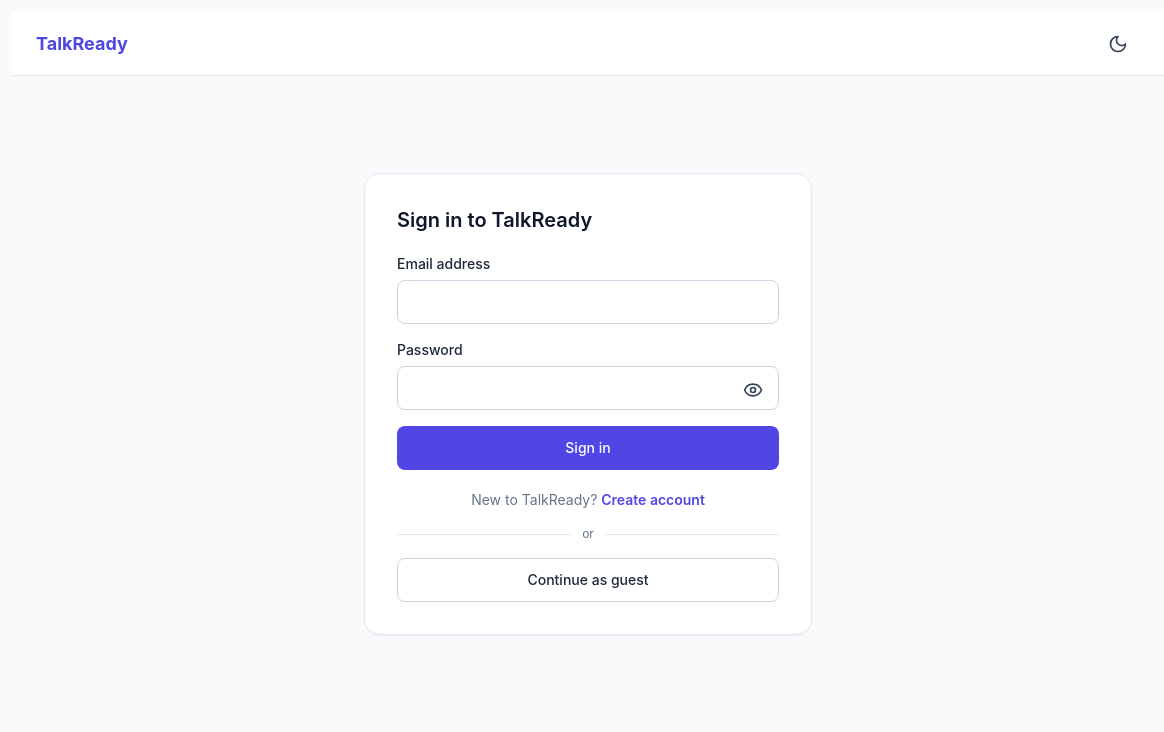
Test: authentication pages › submits valid login credentials and navigates to the landing page
The width and height of the screenshot is (1164, 732).
Type "sam@example.com" into the field labelled "Email address" at (588, 302), box [397,280,779,324]
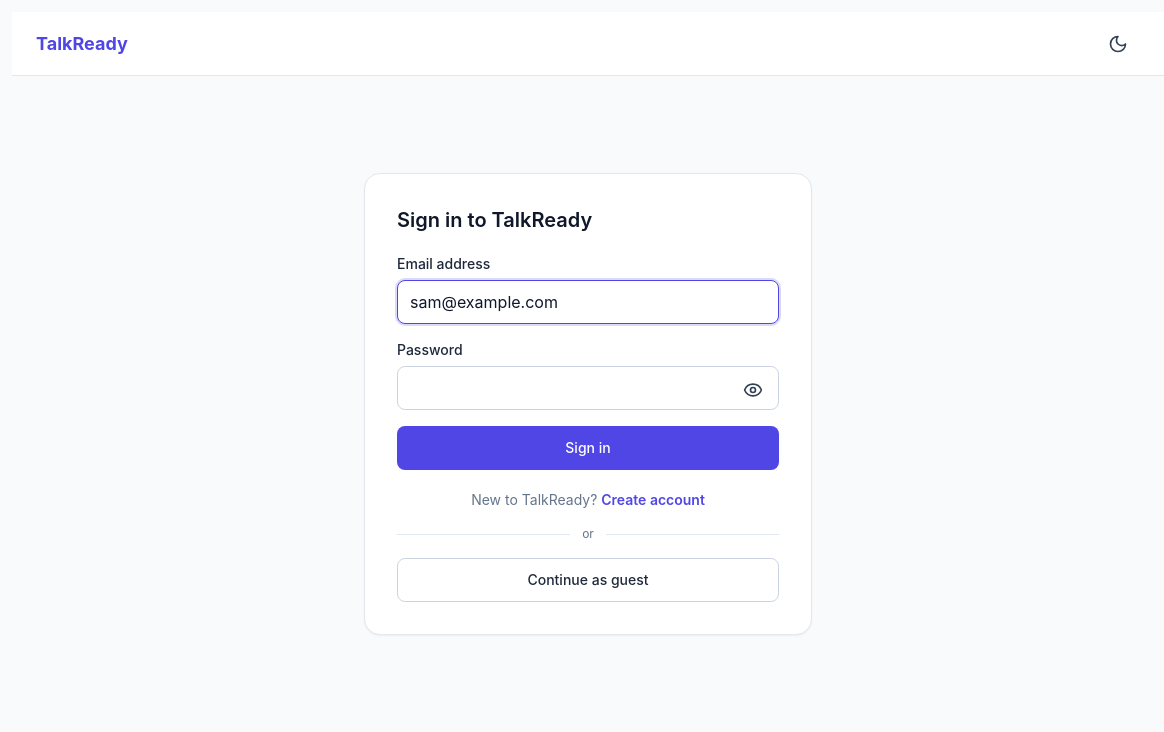
Type "Secure123" into the password field labelled "Password" at (588, 388), box [397,366,779,410]
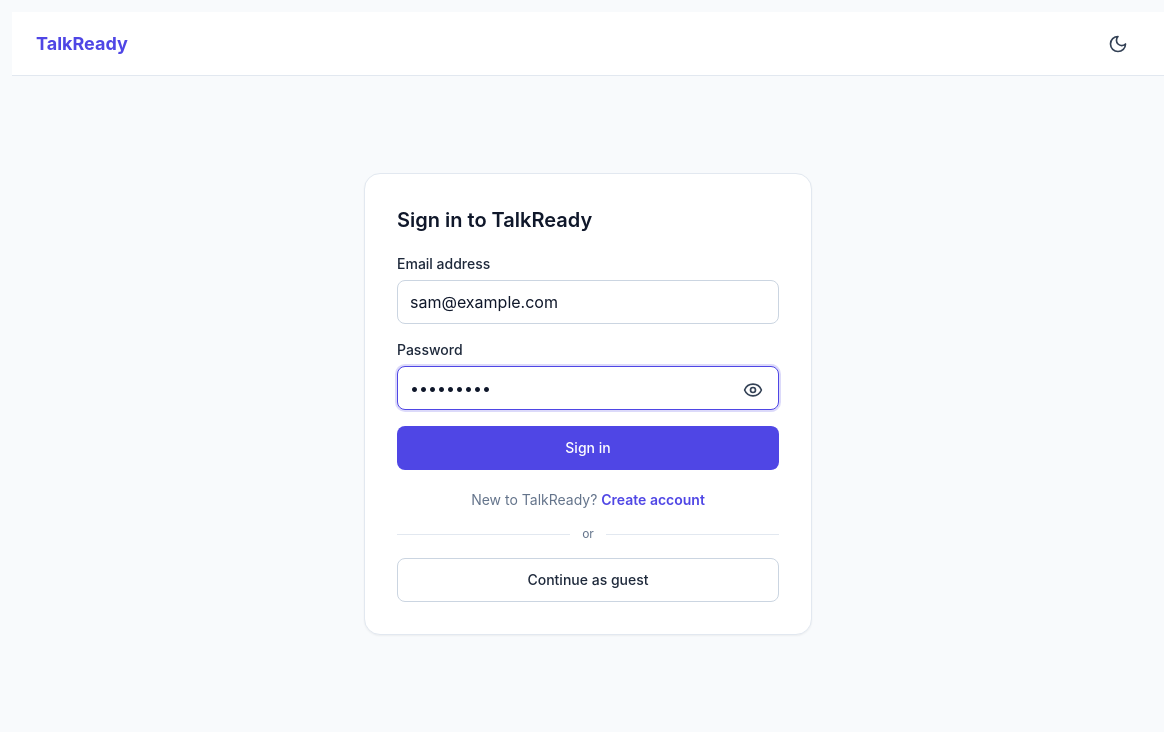
Click the button "Sign in" at (588, 448), box [397,426,779,470]
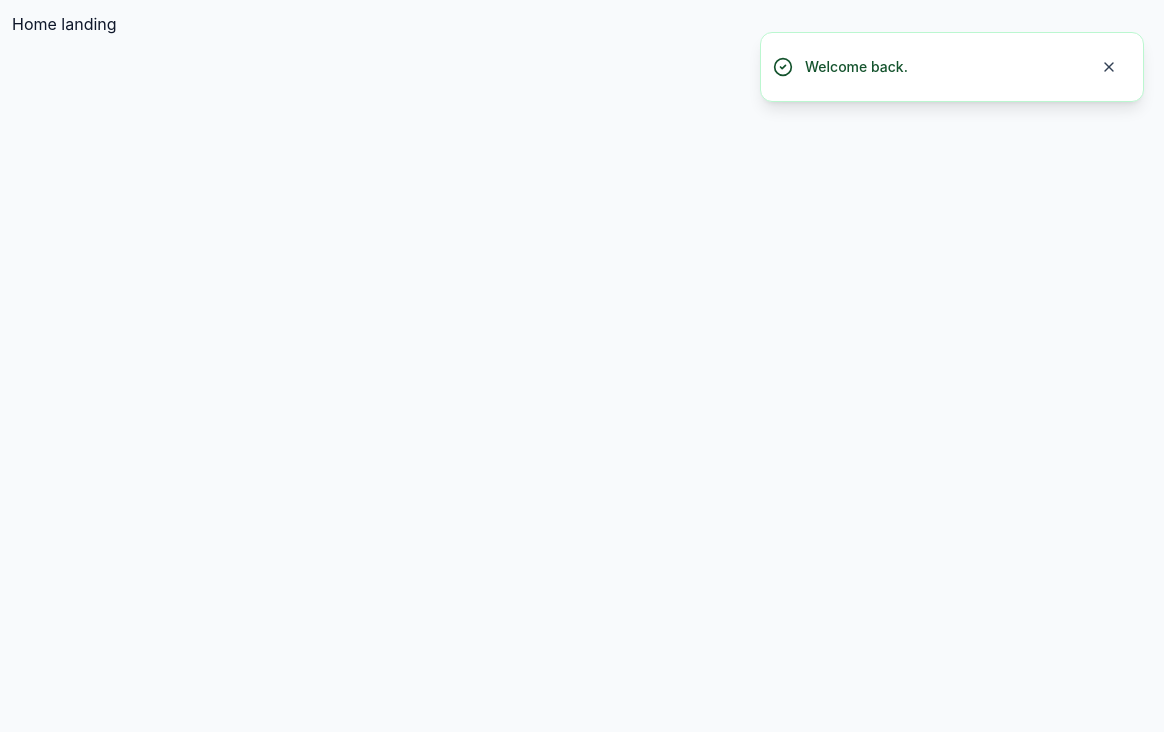
Result: the text "Home landing" is shown at [12,14,117,34]
